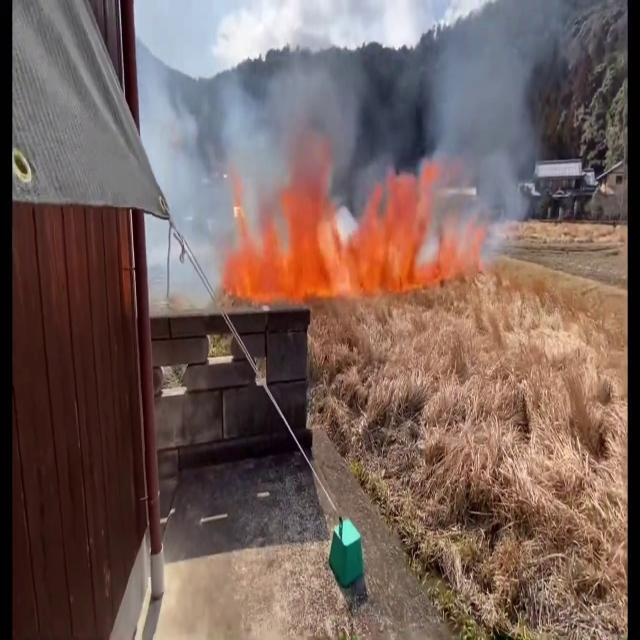Fire: (220, 160, 440, 303)
Smoke: (421, 0, 606, 279), (132, 32, 358, 226)
